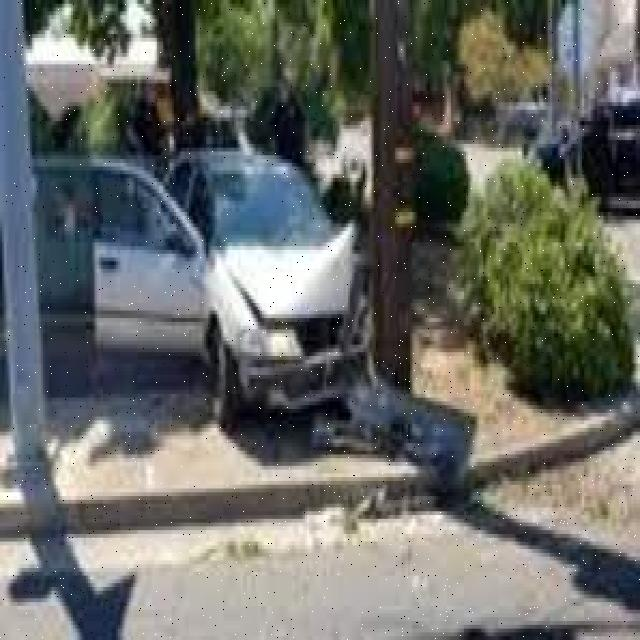moderate: (87, 125, 390, 420)
